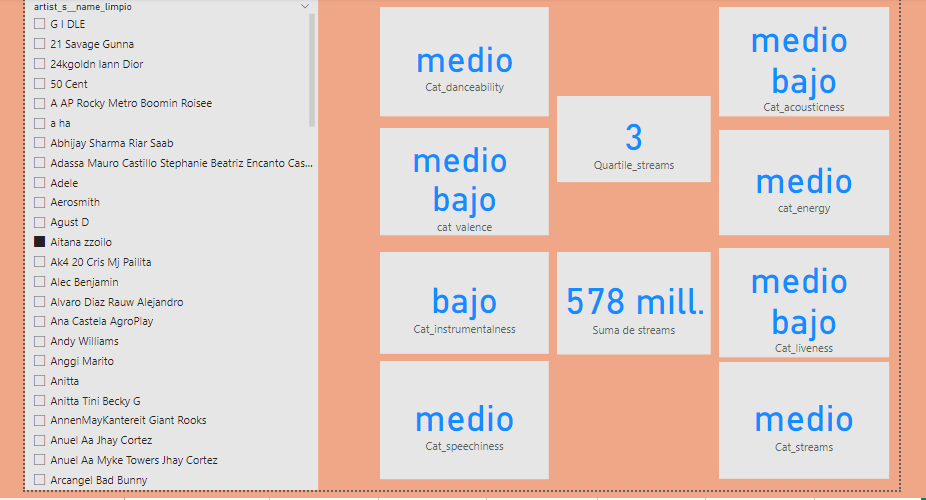

What the dashboard file says about the page in this screenshot:
{"tool":"powerbi","page":{"name":"Dashboard 3","canvas":[1280,720],"ordinal":14},"visuals":[{"type":"slicer","fields":{"Values":["view_complete_table.artist_s__name_limpio"]},"box":[0,0,428.8,720],"z":0},{"type":"card","fields":{"Values":["Quartiles.cat_danceability"]},"box":[519.5,13.2,247.3,159.5],"z":1000},{"type":"card","fields":{"Values":["Quartiles.cat_acousticness"]},"box":[1015.6,13.2,248.8,159.5],"z":2000},{"type":"card","fields":{"Values":["Quartiles.cat_valence"]},"box":[519.5,190.2,247.3,156.6],"z":3000},{"type":"card","fields":{"Values":["Quartiles.cat_energy"]},"box":[1015.6,193.2,248.8,153.7],"z":4000},{"type":"card","fields":{"Values":["Quartiles.cat_instrumentalness"]},"box":[519.5,371.7,247.3,149.3],"z":5000},{"type":"card","fields":{"Values":["Quartiles.cat_liveness"]},"box":[1015.6,365.9,248.8,159.5],"z":6000},{"type":"card","fields":{"Values":["Quartiles.cat_speechiness"]},"box":[519.5,531.2,247.3,172.7],"z":7000},{"type":"card","fields":{"Values":["Quartiles.cat_streams"]},"box":[1015.6,532.7,248.8,171.2],"z":8000},{"type":"card","fields":{"Values":["Quartil_streams.quartile_streams"]},"box":[778.5,143.4,225.4,125.9],"z":9000},{"type":"card","fields":{"Values":["view_complete_table.streams"]},"box":[779,372,225,150],"z":10000}]}

Visuals, with their boxes on the page's 1280x720 design canvas (x1, y1, x2, y2). These are canvas units, not pixel positions in the 926x500 screenshot, which may show the page scaled, cropped or inside an application window:
slicer - view_complete_table.artist_s__name_limpio: {"x1": 0, "y1": 0, "x2": 429, "y2": 720}
card - Quartiles.cat_danceability: {"x1": 520, "y1": 13, "x2": 767, "y2": 173}
card - Quartiles.cat_acousticness: {"x1": 1016, "y1": 13, "x2": 1264, "y2": 173}
card - Quartiles.cat_valence: {"x1": 520, "y1": 190, "x2": 767, "y2": 347}
card - Quartiles.cat_energy: {"x1": 1016, "y1": 193, "x2": 1264, "y2": 347}
card - Quartiles.cat_instrumentalness: {"x1": 520, "y1": 372, "x2": 767, "y2": 521}
card - Quartiles.cat_liveness: {"x1": 1016, "y1": 366, "x2": 1264, "y2": 525}
card - Quartiles.cat_speechiness: {"x1": 520, "y1": 531, "x2": 767, "y2": 704}
card - Quartiles.cat_streams: {"x1": 1016, "y1": 533, "x2": 1264, "y2": 704}
card - Quartil_streams.quartile_streams: {"x1": 778, "y1": 143, "x2": 1004, "y2": 269}
card - view_complete_table.streams: {"x1": 779, "y1": 372, "x2": 1004, "y2": 522}
